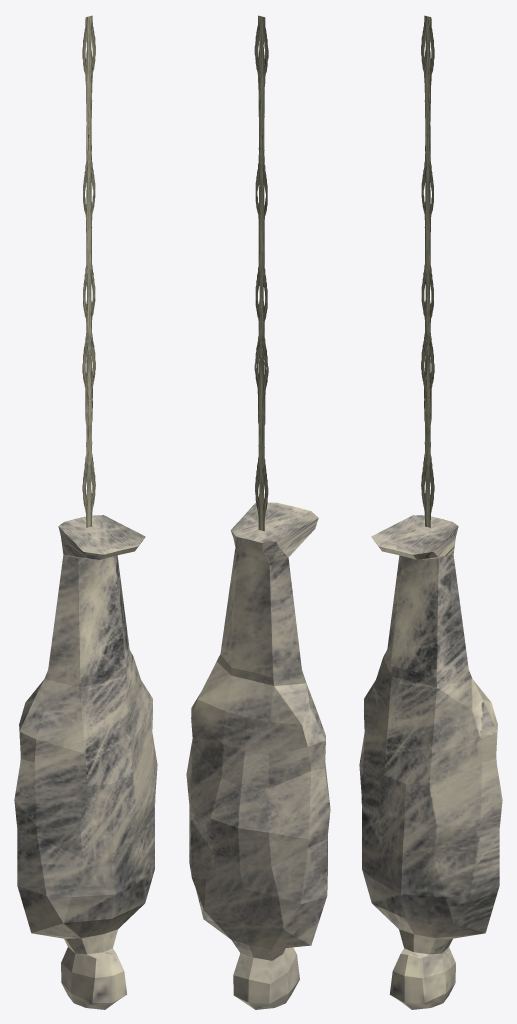
File: Cocoon.fbx
3 renders of one model, left to right at view 1: azimuth 30°, elevation 25°; view 2: azimuth 150°, elevation 25°; view 3: azimuth 330°, elevation 25°, orthographic.
Parts seen in each view (by area): view 1: HumanCocoon; view 2: HumanCocoon; view 3: HumanCocoon.
Boxes of the visible parts, x1=… form: HumanCocoon: x1=14, y1=15, x2=157, y2=1009; HumanCocoon: x1=186, y1=15, x2=330, y2=1009; HumanCocoon: x1=359, y1=15, x2=502, y2=1009.
Bounding box in the file's own units: 57.21 × 376 × 38.51.
Materials: 1 (1 with a texture image).
